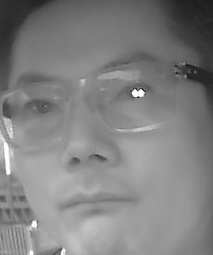glass: (84, 64, 179, 131), (2, 83, 68, 150)
mouth: (58, 181, 136, 227)
